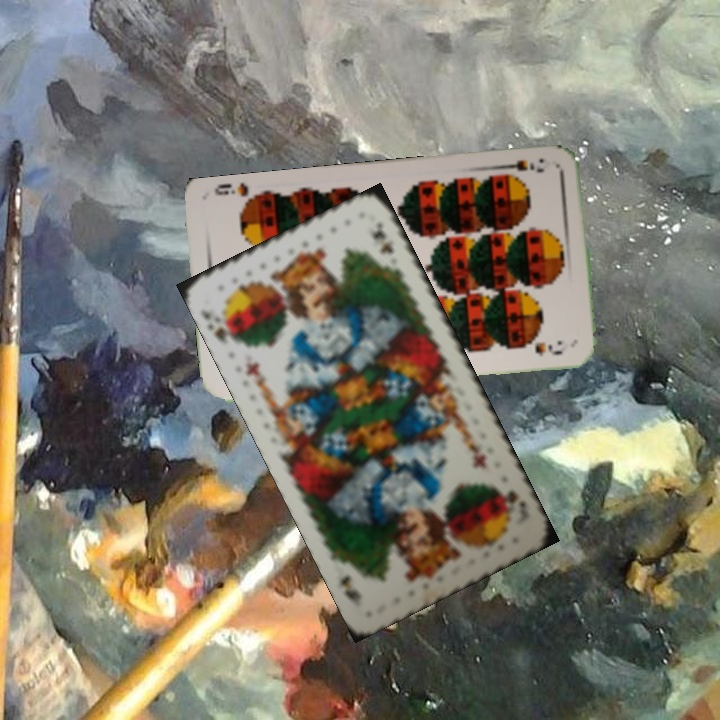S9: (496, 155, 547, 182)
SK: (493, 481, 528, 511), (205, 319, 243, 346)
